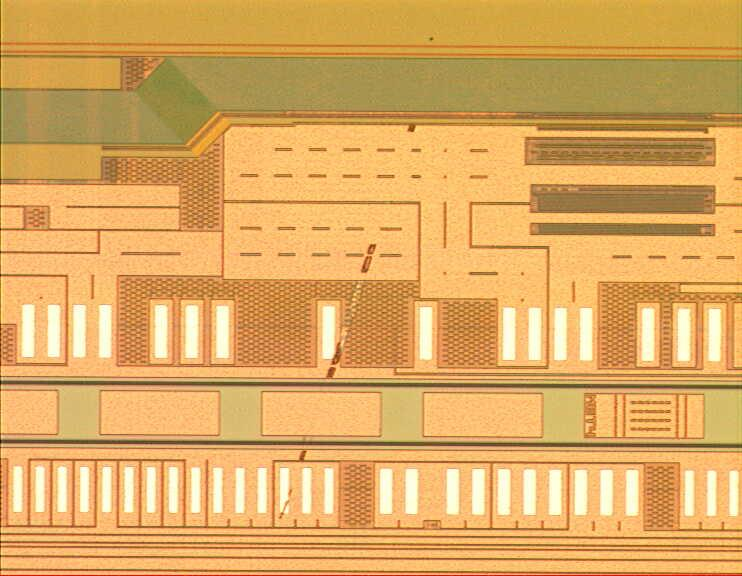SCRATCH: (262, 32, 448, 553)
